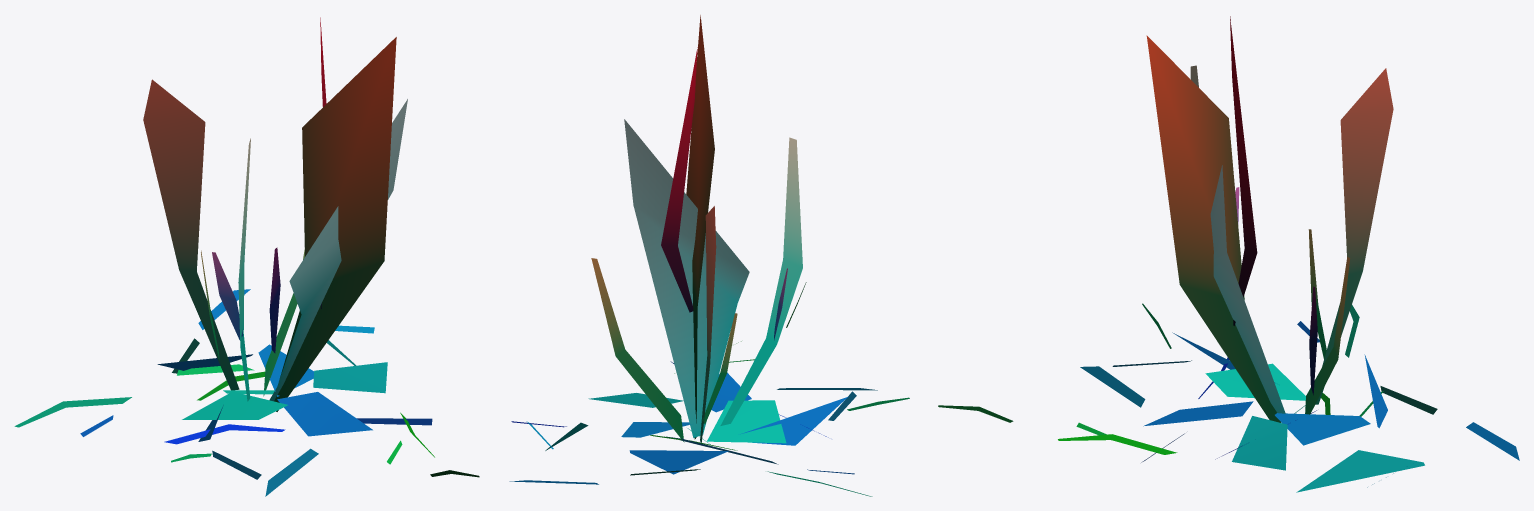
Rendered from Dead_Shrubs_vdknafgha_Low_vdknafgha_VarA_LOD2.fbx.
The picture shows the model from 3 angles, left to right: view 1: azimuth 30°, elevation 25°; view 2: azimuth 150°, elevation 25°; view 3: azimuth 270°, elevation 25°; orthographic projection. The views are drawn at different scales.
Parts seen in each view (by area): view 1: _uiff_VarA_LOD3; view 2: _uiff_VarA_LOD3; view 3: _uiff_VarA_LOD3.
Part boxes in pixels (x1,y1,x2,y2): _uiff_VarA_LOD3: [14, 17, 479, 496]; _uiff_VarA_LOD3: [509, 15, 909, 496]; _uiff_VarA_LOD3: [938, 16, 1519, 492].
Size of the model in its own units: 29.45 by 30.33 by 36.87.
